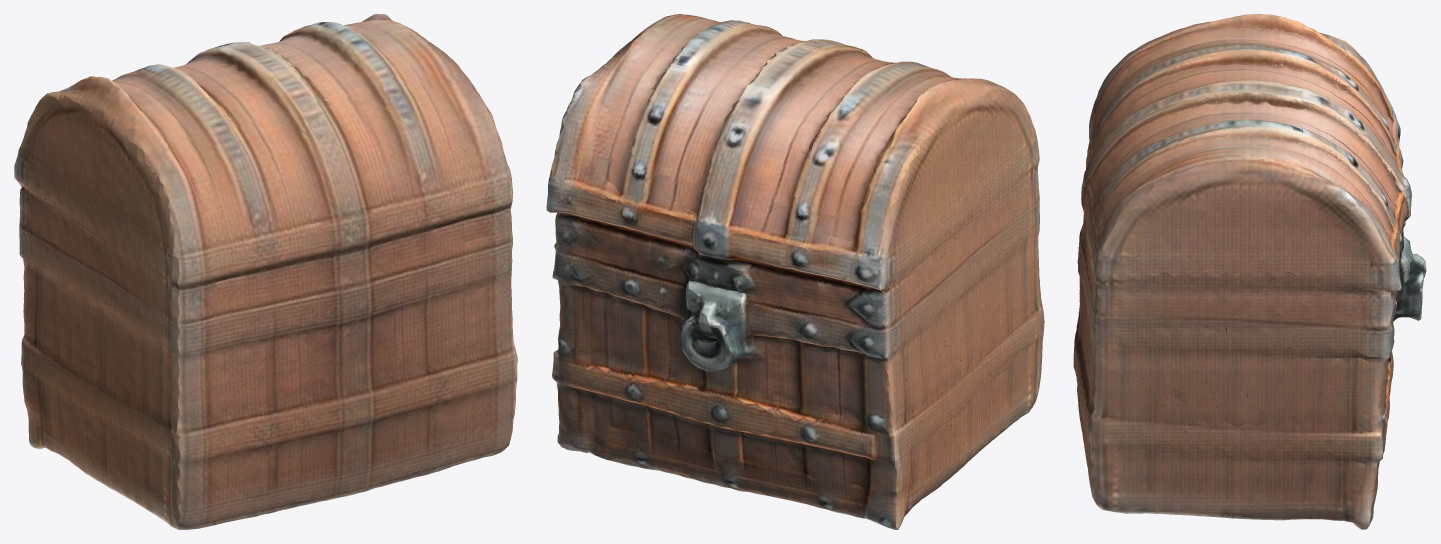
3 renders of one model, left to right at view 1: azimuth 30°, elevation 25°; view 2: azimuth 150°, elevation 25°; view 3: azimuth 270°, elevation 25°, orthographic. The views are drawn at different scales.
Parts seen in each view (by area): view 1: world; view 2: world; view 3: world.
Part boxes in pixels (left/top/right/bottom): world: left=14, top=14, right=517, bottom=529; world: left=546, top=14, right=1044, bottom=529; world: left=1073, top=14, right=1426, bottom=529.
Size of the model in its own units: 0.7955 by 0.8888 by 0.7448.
1 material, 1 textured.
